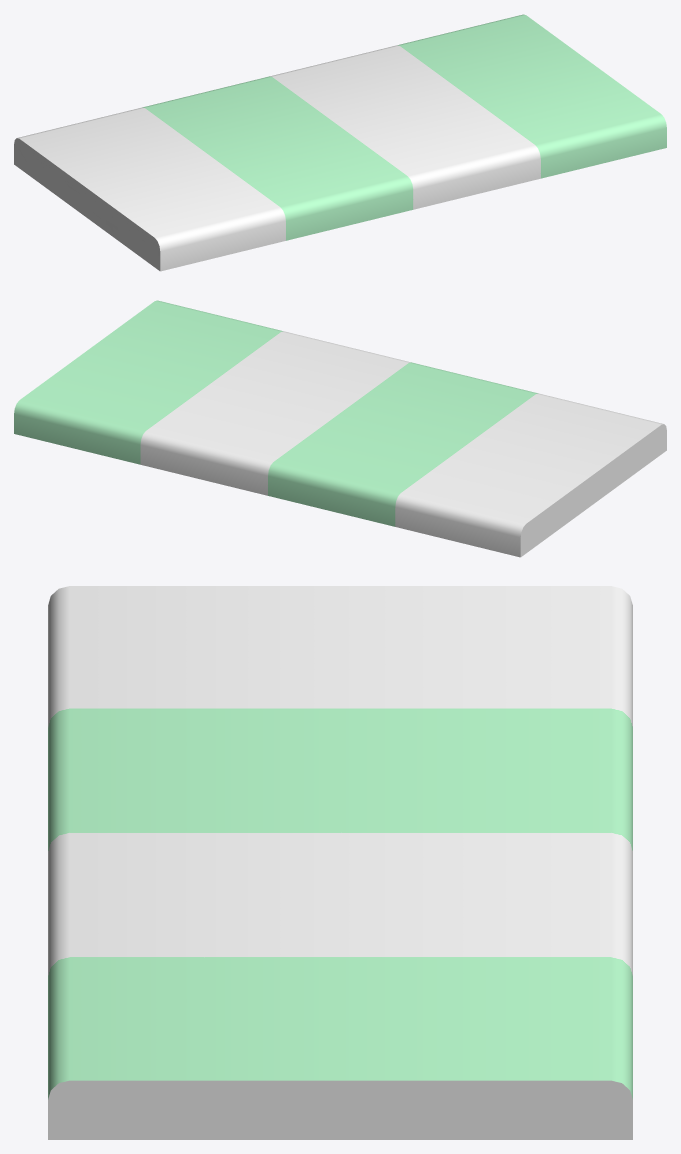
The model's file is RoadStraight1_green.fbx.
The picture shows the model from 3 angles, top to bottom: view 1: azimuth 30°, elevation 25°; view 2: azimuth 150°, elevation 25°; view 3: azimuth 270°, elevation 25°; orthographic projection. The views are drawn at different scales.
Parts seen in each view (by area): view 1: RoadStraight1_green; view 2: RoadStraight1_green; view 3: RoadStraight1_green.
Boxes of the visible parts, x1,y1,x2,y2 form: RoadStraight1_green: (14,14,666,271); RoadStraight1_green: (14,300,666,557); RoadStraight1_green: (48,586,632,1139).
Bounding box in the file's own units: 600 × 33.61 × 300.
Materials: 1 (1 with a texture image).
